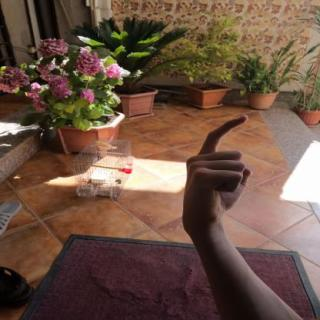RAA: (172, 112, 258, 239)
